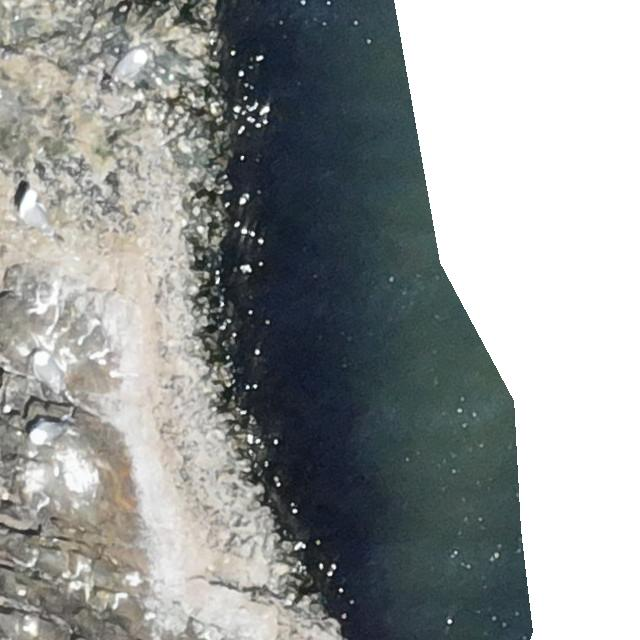umineko: (17, 186, 55, 236), (32, 350, 66, 393), (30, 414, 70, 447), (111, 48, 147, 83)
